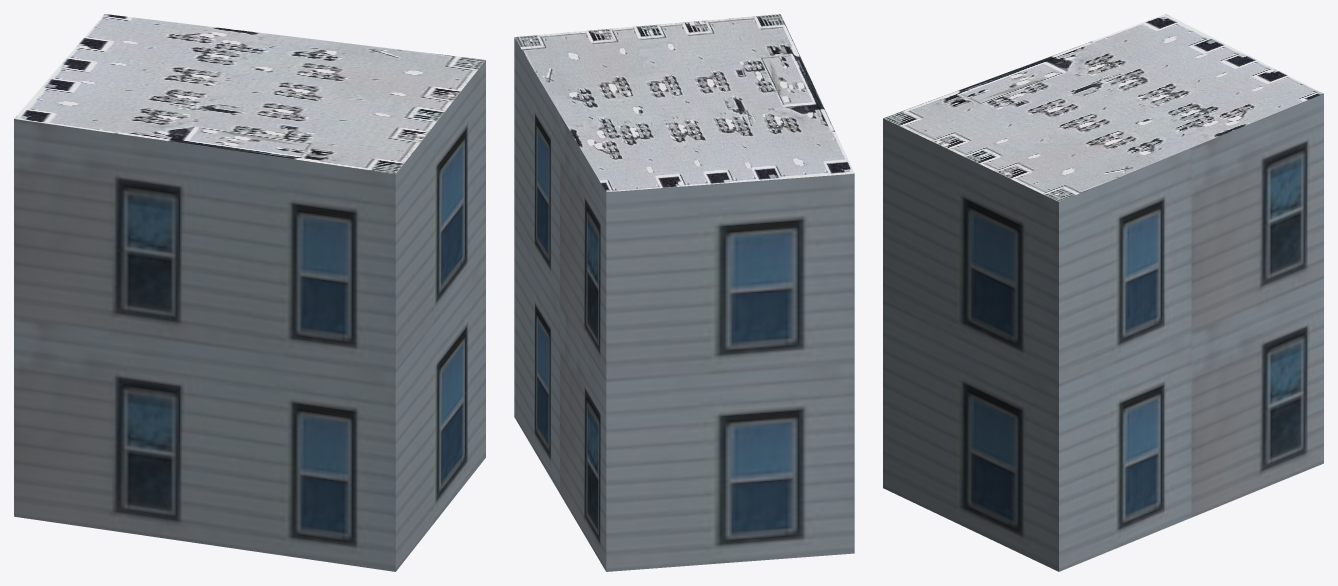
File: ResTex__1603.fbx
The picture shows the model from 3 angles, left to right: view 1: azimuth 30°, elevation 25°; view 2: azimuth 150°, elevation 25°; view 3: azimuth 270°, elevation 25°; orthographic projection. The views are drawn at different scales.
Visible parts, largest first — view 1: CityEngineMaterial_18_m, CityEngineMaterial_2_m; view 2: CityEngineMaterial_18_m, CityEngineMaterial_2_m; view 3: CityEngineMaterial_18_m, CityEngineMaterial_2_m.
Part boxes in pixels (box(x1,y1,x2,y2)): CityEngineMaterial_18_m: box(14, 60, 485, 571); CityEngineMaterial_2_m: box(14, 14, 485, 174); CityEngineMaterial_18_m: box(514, 38, 854, 571); CityEngineMaterial_2_m: box(514, 14, 854, 192); CityEngineMaterial_18_m: box(883, 93, 1323, 571); CityEngineMaterial_2_m: box(883, 14, 1323, 201).
Size of the model in its own units: 6.54 by 6 by 6.48.
Materials: 2 (2 with a texture image).
